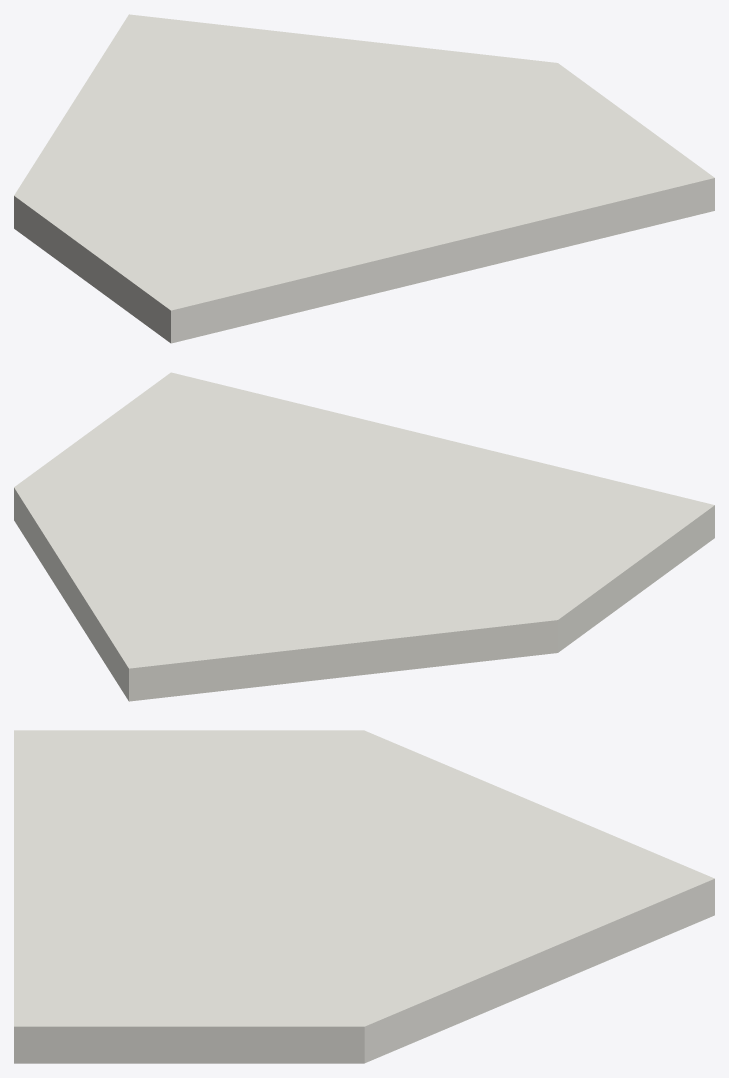
The model's file is GS_HomePlate_01.glb.
The picture shows the model from 3 angles, top to bottom: view 1: azimuth 30°, elevation 25°; view 2: azimuth 150°, elevation 25°; view 3: azimuth 270°, elevation 25°; orthographic projection. The views are drawn at different scales.
Visible parts, largest first — view 1: GS_HomePlate_01; view 2: GS_HomePlate_01; view 3: GS_HomePlate_01.
Boxes of the visible parts, x1,y1,x2,y2 form: GS_HomePlate_01: [14, 14, 714, 343]; GS_HomePlate_01: [14, 372, 714, 701]; GS_HomePlate_01: [14, 730, 714, 1063].
Bounding box in the file's own units: 0.432 × 0.025 × 0.432.
Materials: 1 (1 with a texture image).
